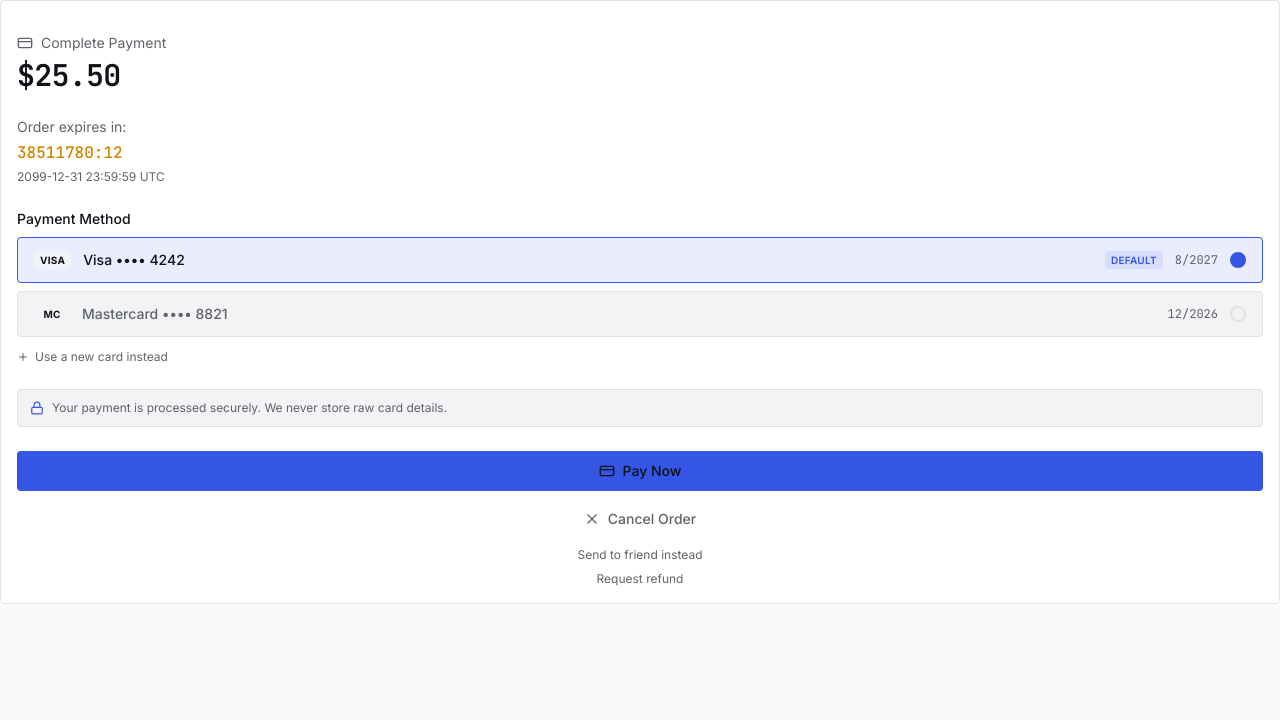
Test case: OrderPaymentForm › shows retry payment methods inline after a saved-card payment fails
This screenshot has width=1280, height=720.
Step 1. Click the button "Pay Now" → (640, 471), box [17,451,1263,491]
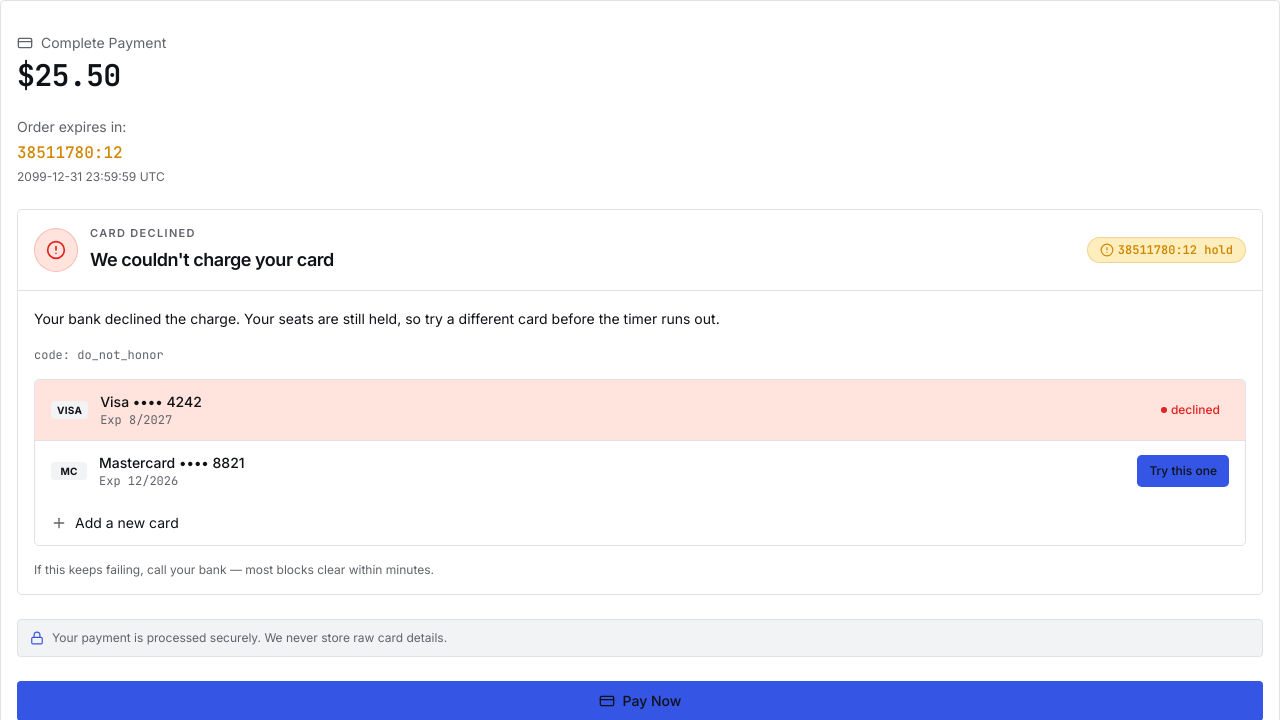
Expected: the text "We couldn't charge your card" is shown, [90,246,334,274]
Expected: the text "code: do_not_honor" is shown, [34,347,164,363]
Expected: the text "Card declined" is shown, [90,226,196,240]
